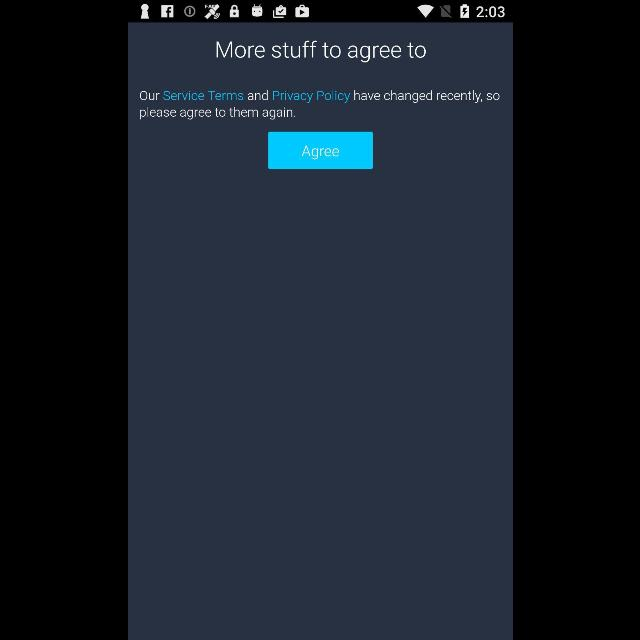text: (138, 90, 500, 120), (214, 40, 426, 64)
textbutton: (268, 132, 372, 170)
uppertaskbar: (128, 1, 512, 23)
